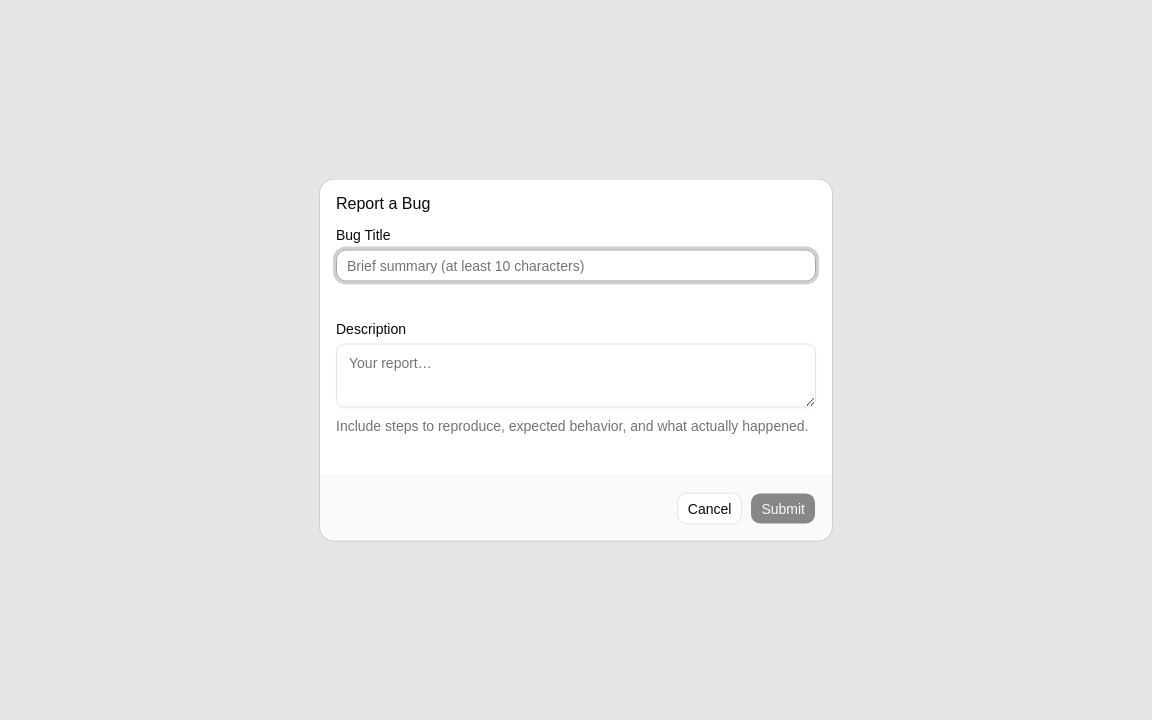
BugReportDialog › shows description error only after the description field is blurred with a short value
The width and height of the screenshot is (1152, 720).
Type "Too short" into the text box labelled "Description" at (576, 376), box x1=336 y1=344 x2=816 y2=408
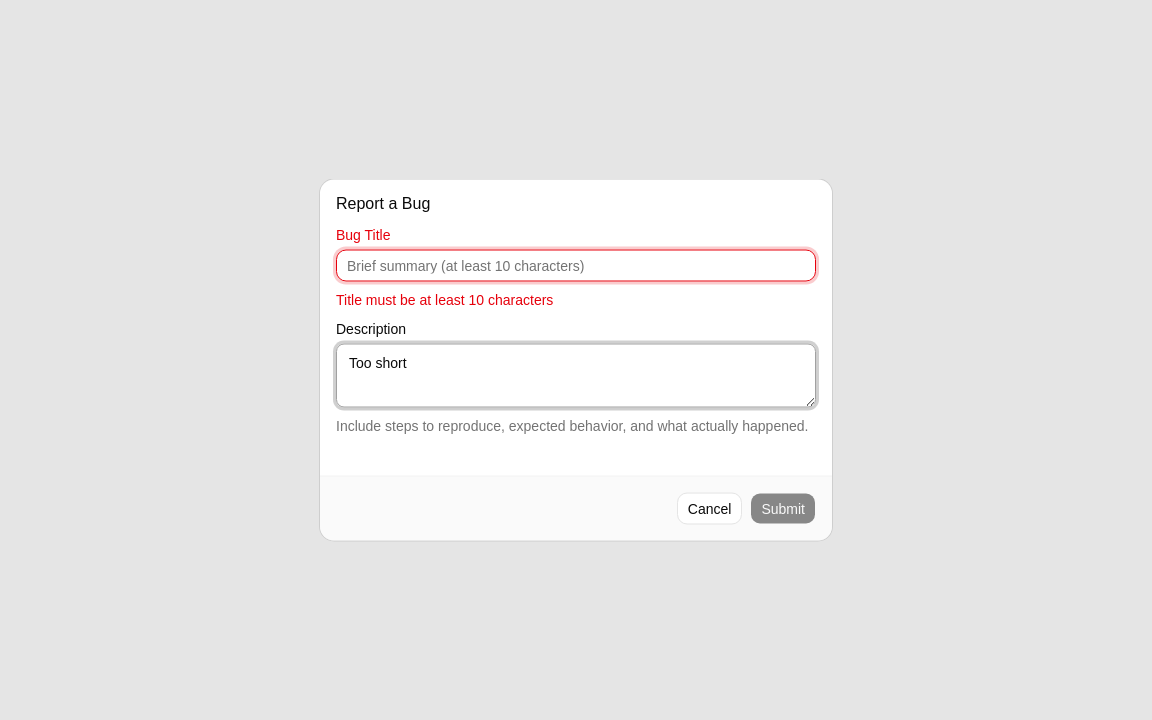
Press Tab
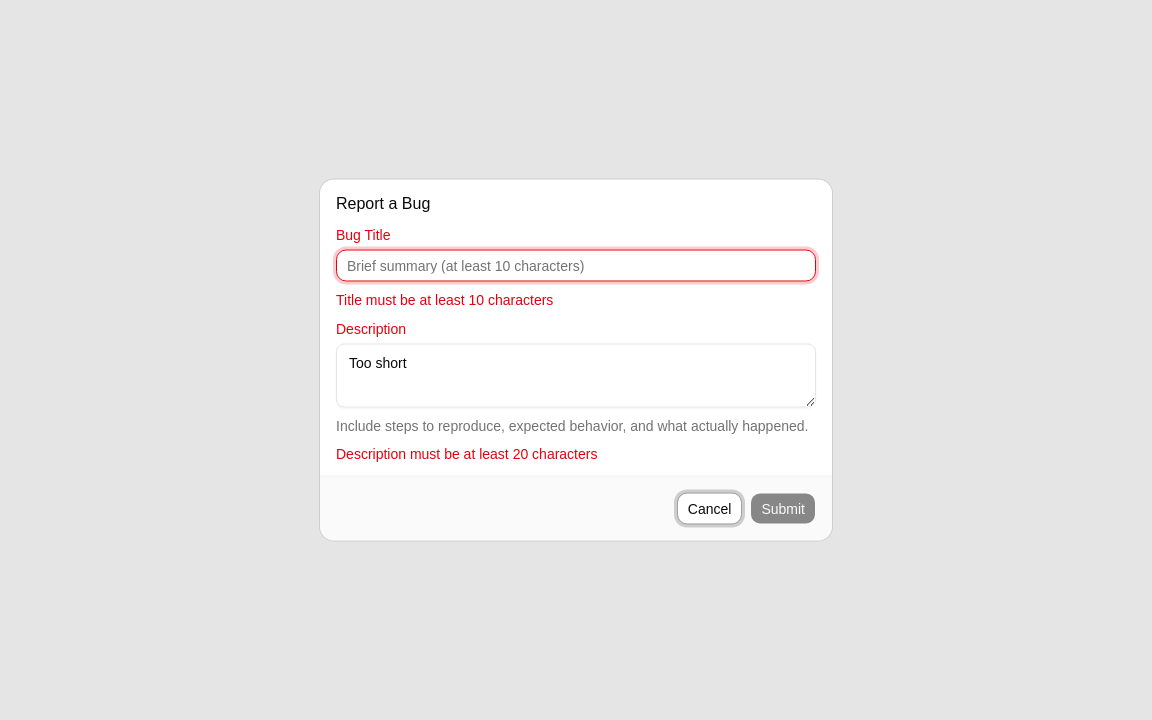
Expected: the text "Description must be at least 20 characters" is shown, x1=336 y1=446 x2=598 y2=462
